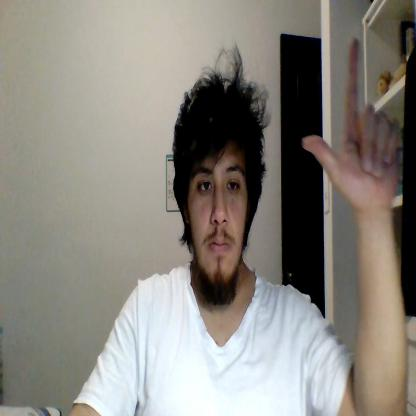L: (302, 38, 401, 209)
